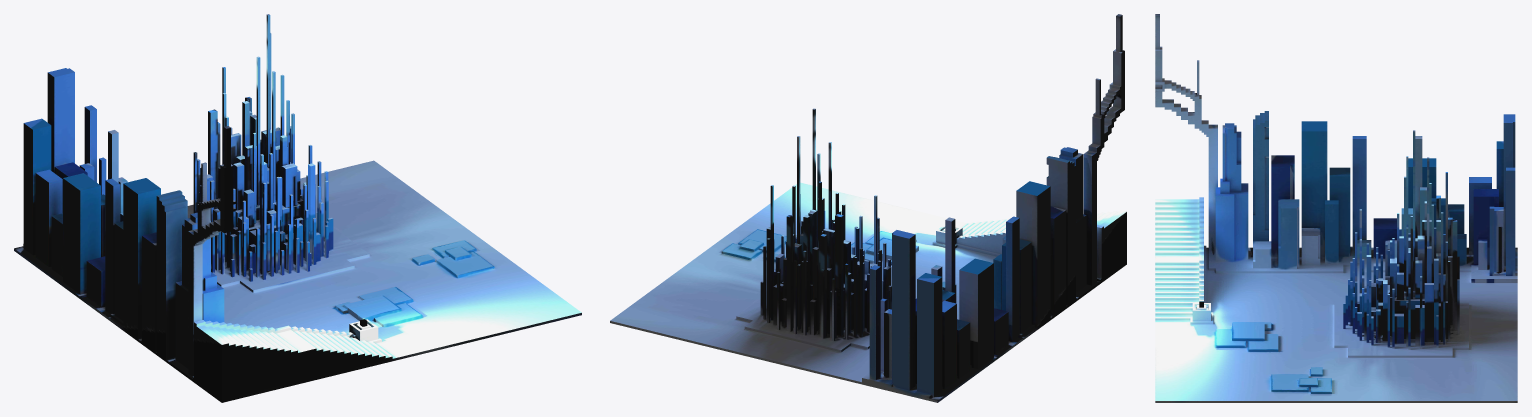
Rendered from castle-entry-right-com.glb.
3 views of the same model, side by side, from view 1: azimuth 30°, elevation 25°; view 2: azimuth 150°, elevation 25°; view 3: azimuth 270°, elevation 25° (orthographic). The views are drawn at different scales.
Visible parts, largest first — view 1: more_nfts_spikes; view 2: more_nfts_spikes; view 3: more_nfts_spikes.
Part boxes in pixels (x1,y1,x2,y2): more_nfts_spikes: (14, 14, 581, 402); more_nfts_spikes: (610, 14, 1126, 402); more_nfts_spikes: (1155, 14, 1517, 402).
Bounding box in the file's own units: 156 × 113 × 156.
1 material, 1 textured.
